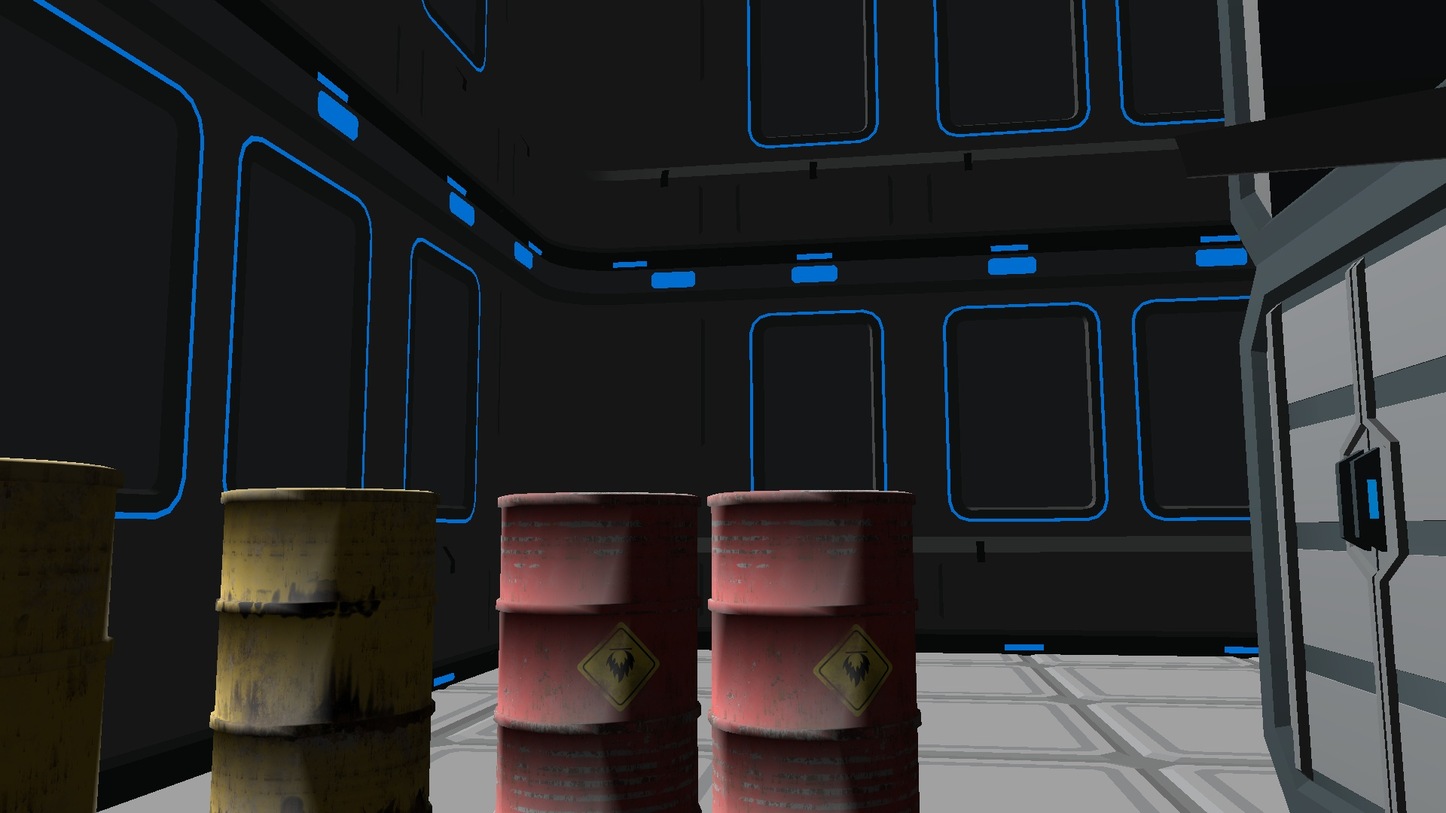toxic barrel: (209, 489, 435, 813), (706, 491, 922, 813), (493, 492, 702, 813), (0, 458, 117, 813)
